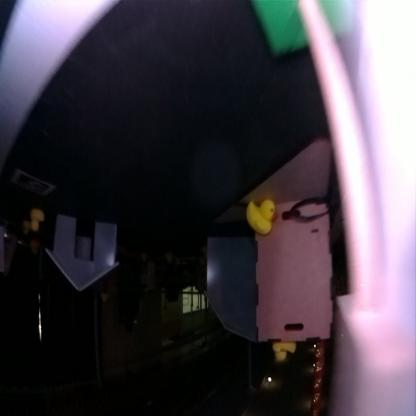Duckie: (245, 200, 277, 234), (272, 343, 296, 362), (29, 210, 44, 230), (22, 223, 29, 235)
QR code: (11, 170, 54, 198)
